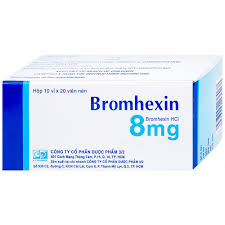Bromhexin: (88, 94, 184, 114)
